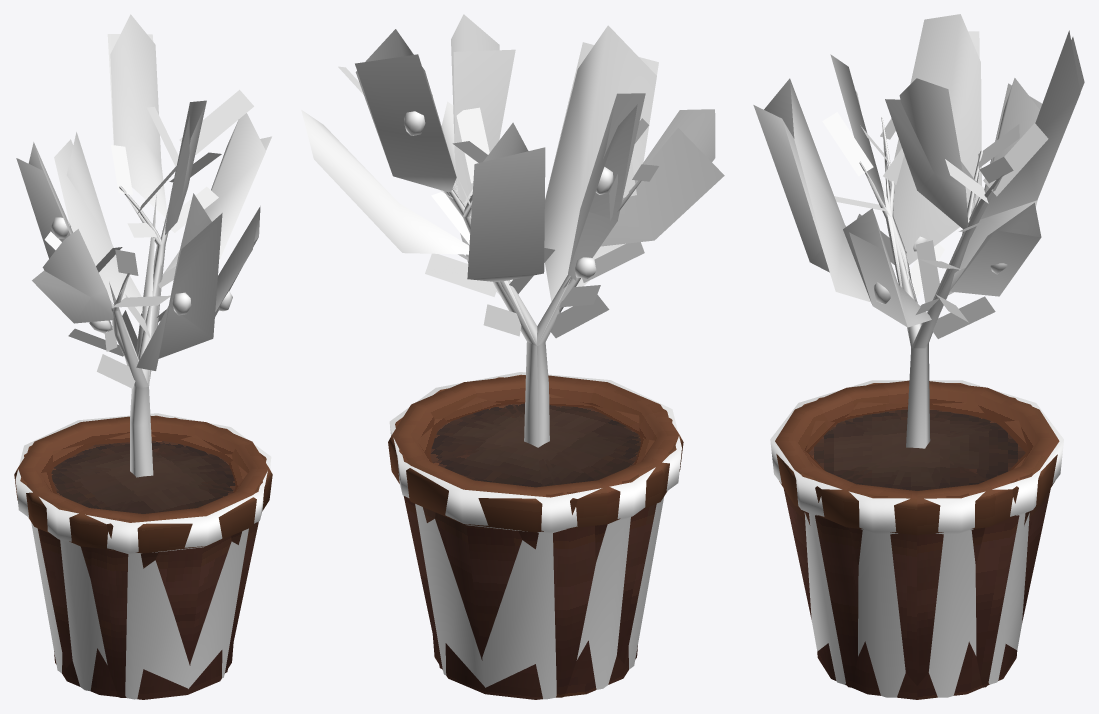
The model's file is objects_un_pot_olive02.gltf.
The picture shows the model from 3 angles, left to right: view 1: azimuth 30°, elevation 25°; view 2: azimuth 150°, elevation 25°; view 3: azimuth 270°, elevation 25°; orthographic projection. The views are drawn at different scales.
Parts seen in each view (by area): view 1: um_objects_un_pot_olive02_model_lod0Shape:objects_un_pot_oli (×2), um_objects_un_pot_olive02_model_lod0Shape:plants_olive01_01, um_objects_un_pot_olive02_model_lod2Shape:objects_un_pot_oli, um_objects_un_pot_olive02_model_lod1Shape:plants_olive01_01, um_objects_un_pot_olive02_model_lod1Shape:objects_un_pot_oli, um_objects_un_pot_olive02_model_lod2Shape:plants_olive01_01; view 2: um_objects_un_pot_olive02_model_lod0Shape:objects_un_pot_oli (×2), um_objects_un_pot_olive02_model_lod0Shape:plants_olive01_01, um_objects_un_pot_olive02_model_lod2Shape:plants_olive01_01, um_objects_un_pot_olive02_model_lod2Shape:objects_un_pot_oli, um_objects_un_pot_olive02_model_lod1Shape:plants_olive01_01, um_objects_un_pot_olive02_model_lod1Shape:objects_un_pot_oli; view 3: um_objects_un_pot_olive02_model_lod0Shape:objects_un_pot_oli (×2), um_objects_un_pot_olive02_model_lod0Shape:plants_olive01_01, um_objects_un_pot_olive02_model_lod2Shape:objects_un_pot_oli, um_objects_un_pot_olive02_model_lod1Shape:plants_olive01_01, um_objects_un_pot_olive02_model_lod2Shape:plants_olive01_01, um_objects_un_pot_olive02_model_lod1Shape:objects_un_pot_oli.
Boxes of the visible parts, box(x1,y1,x2,y2) form: um_objects_un_pot_olive02_model_lod0Shape:objects_un_pot_oli (×2): box(14, 413, 272, 699); um_objects_un_pot_olive02_model_lod0Shape:plants_olive01_01: box(28, 14, 265, 477); um_objects_un_pot_olive02_model_lod2Shape:objects_un_pot_oli: box(24, 417, 265, 697); um_objects_un_pot_olive02_model_lod1Shape:plants_olive01_01: box(16, 34, 271, 475); um_objects_un_pot_olive02_model_lod1Shape:objects_un_pot_oli: box(20, 415, 266, 522); um_objects_un_pot_olive02_model_lod2Shape:plants_olive01_01: box(34, 116, 256, 383); um_objects_un_pot_olive02_model_lod0Shape:objects_un_pot_oli (×2): box(388, 372, 683, 699); um_objects_un_pot_olive02_model_lod0Shape:plants_olive01_01: box(301, 14, 715, 447); um_objects_un_pot_olive02_model_lod2Shape:plants_olive01_01: box(355, 49, 724, 342); um_objects_un_pot_olive02_model_lod2Shape:objects_un_pot_oli: box(395, 377, 672, 697); um_objects_un_pot_olive02_model_lod1Shape:plants_olive01_01: box(443, 42, 658, 447); um_objects_un_pot_olive02_model_lod1Shape:objects_un_pot_oli: box(395, 374, 676, 497); um_objects_un_pot_olive02_model_lod0Shape:objects_un_pot_oli (×2): box(770, 380, 1063, 699); um_objects_un_pot_olive02_model_lod0Shape:plants_olive01_01: box(764, 14, 1080, 348); um_objects_un_pot_olive02_model_lod2Shape:objects_un_pot_oli: box(784, 397, 1050, 687); um_objects_un_pot_olive02_model_lod1Shape:plants_olive01_01: box(753, 37, 1084, 448); um_objects_un_pot_olive02_model_lod2Shape:plants_olive01_01: box(849, 31, 1041, 343); um_objects_un_pot_olive02_model_lod1Shape:objects_un_pot_oli: box(801, 383, 1032, 498).
Bounding box in the file's own units: 0.713 × 1.32 × 0.6019.
3 materials, 1 textured.
